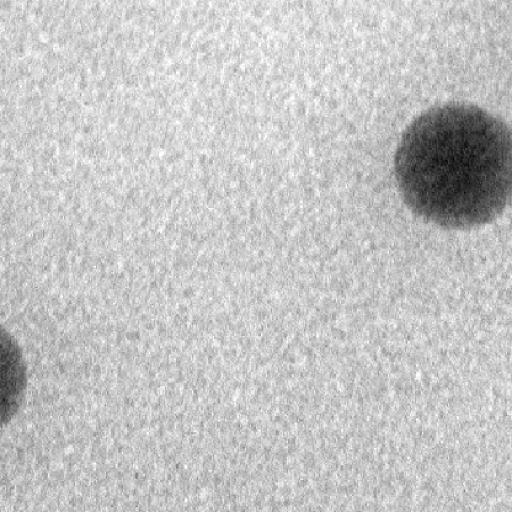Nanoparticles: (391, 98, 512, 232), (0, 322, 34, 432)
